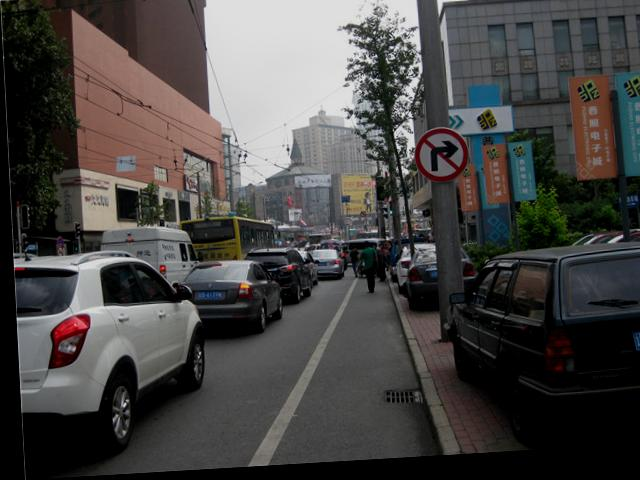not_turn_right: (405, 131, 470, 193)
